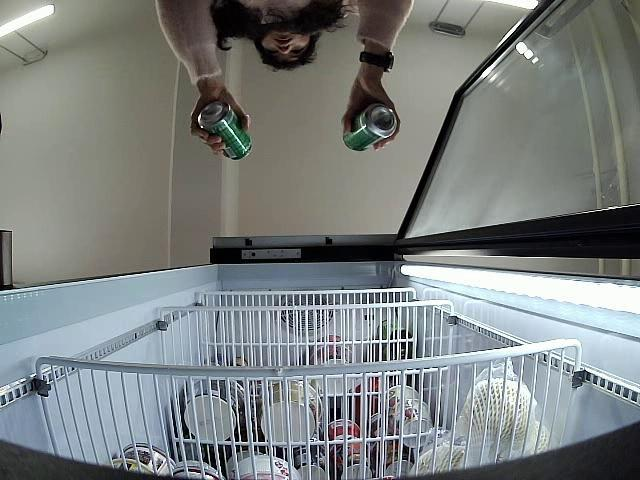12_chilsungCider: (196, 103, 252, 162), (342, 104, 397, 150)
